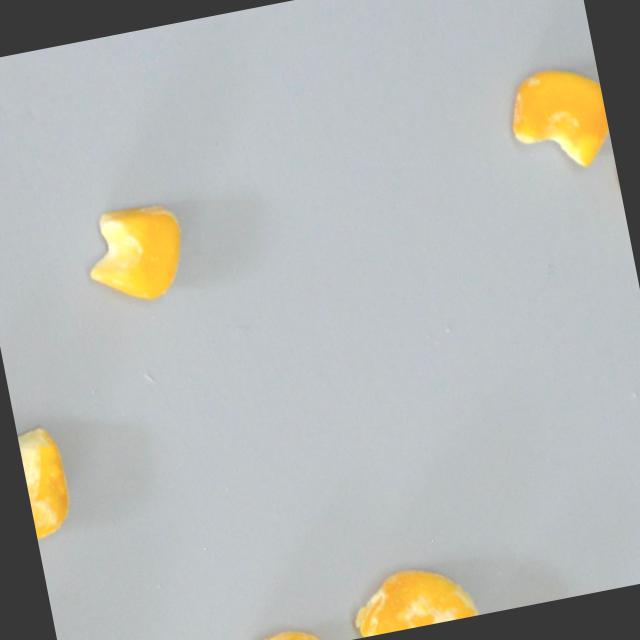pelicula: (502, 58, 615, 180), (77, 199, 194, 311), (345, 555, 481, 639), (13, 411, 77, 542), (228, 619, 341, 640)
